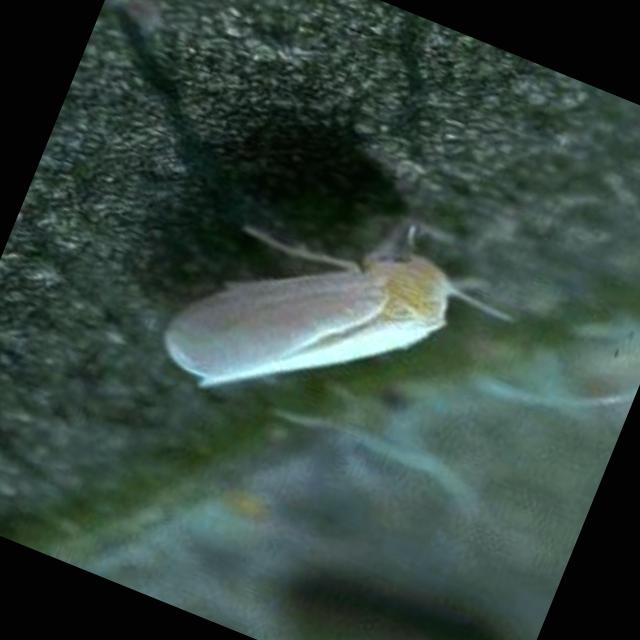Silverleaf whitefly: (136, 134, 525, 502)
